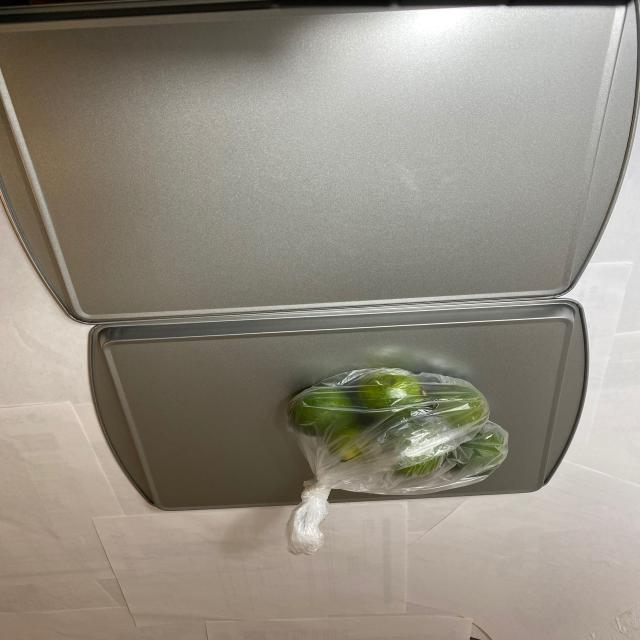lemon: (282, 366, 507, 484)
